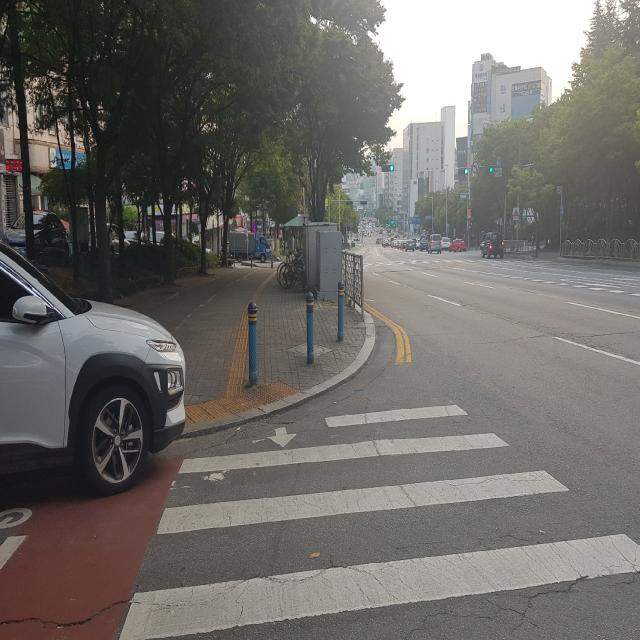횡단보도: (118, 405, 640, 640)
